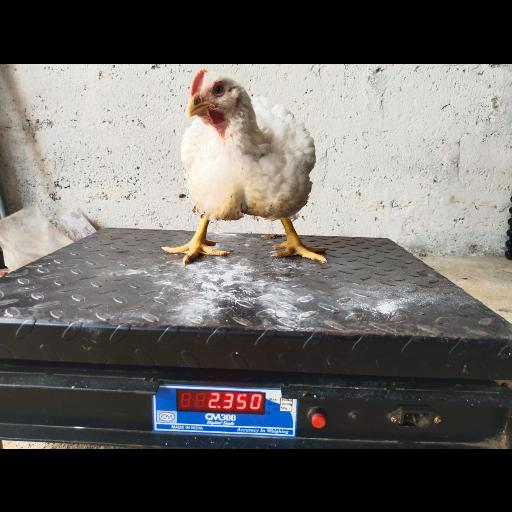chick: (160, 68, 327, 262)
